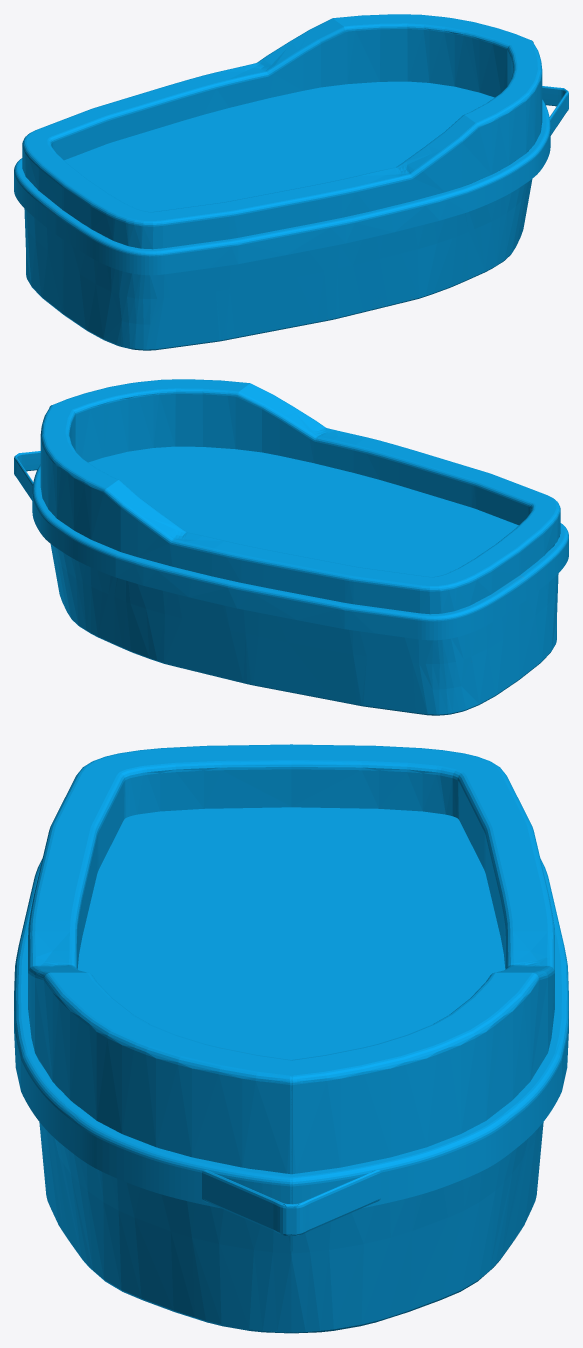
File: Toy_boat.glb
3 views of the same model, one above another, from view 1: azimuth 30°, elevation 25°; view 2: azimuth 150°, elevation 25°; view 3: azimuth 270°, elevation 25° (orthographic). The views are drawn at different scales.
Parts seen in each view (by area): view 1: node_id3; view 2: node_id3; view 3: node_id3.
Part boxes in pixels (x1=…): node_id3: x1=14, y1=14, x2=568, y2=350; node_id3: x1=14, y1=379, x2=568, y2=715; node_id3: x1=14, y1=744, x2=568, y2=1333.
Size of the model in its own units: 0.512 by 0.1547 by 0.2849.
Materials: 1 (1 with a texture image).
